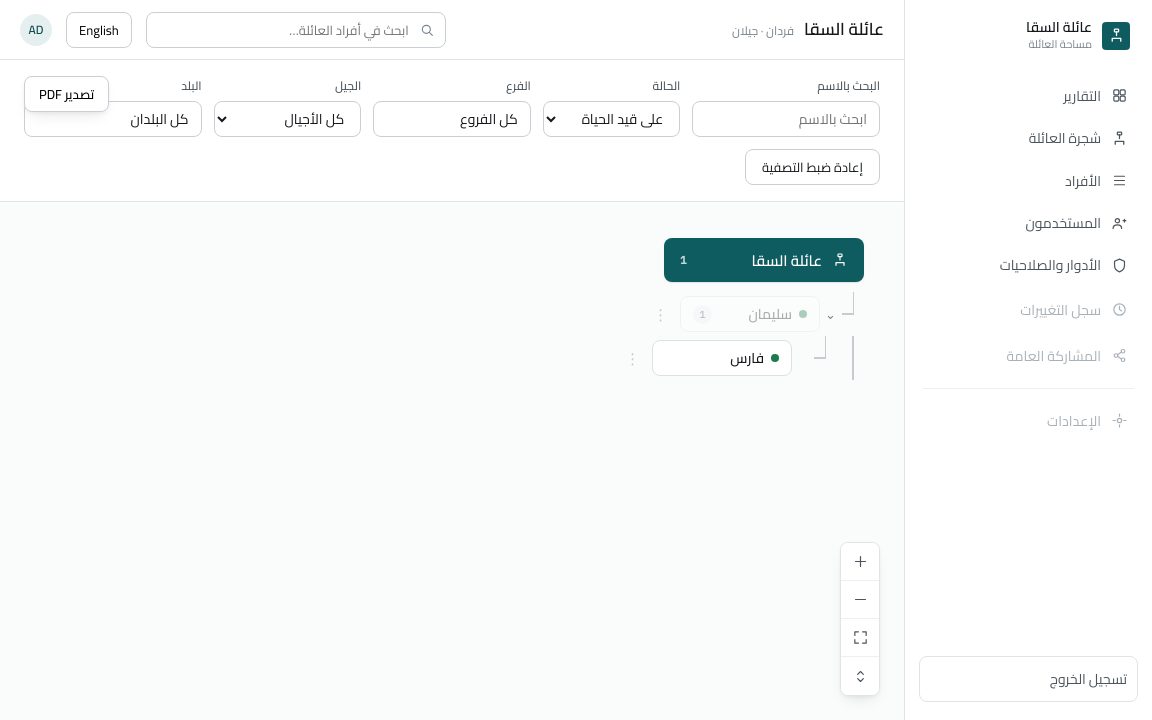
Test case: TreePage filters › still selects a matching row
This screenshot has width=1152, height=720.
expect the text "سليمان" is shown: met, box [748,301,792,327]
Note: The filtered tree arrives already open, so فارس is on screen without expanding.
Step 1. Click the button titled "فارس" → [722, 358], box [652,340,792,376]
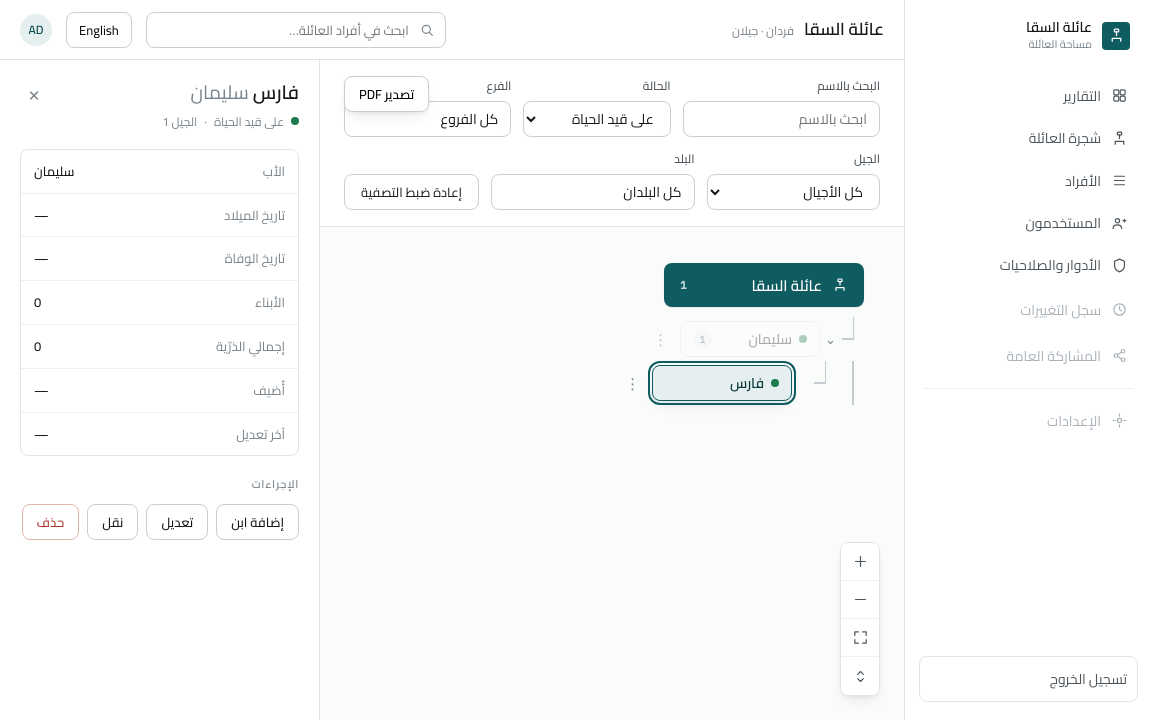
expect the element "فارس" is shown: met, box [0,60,320,719]
